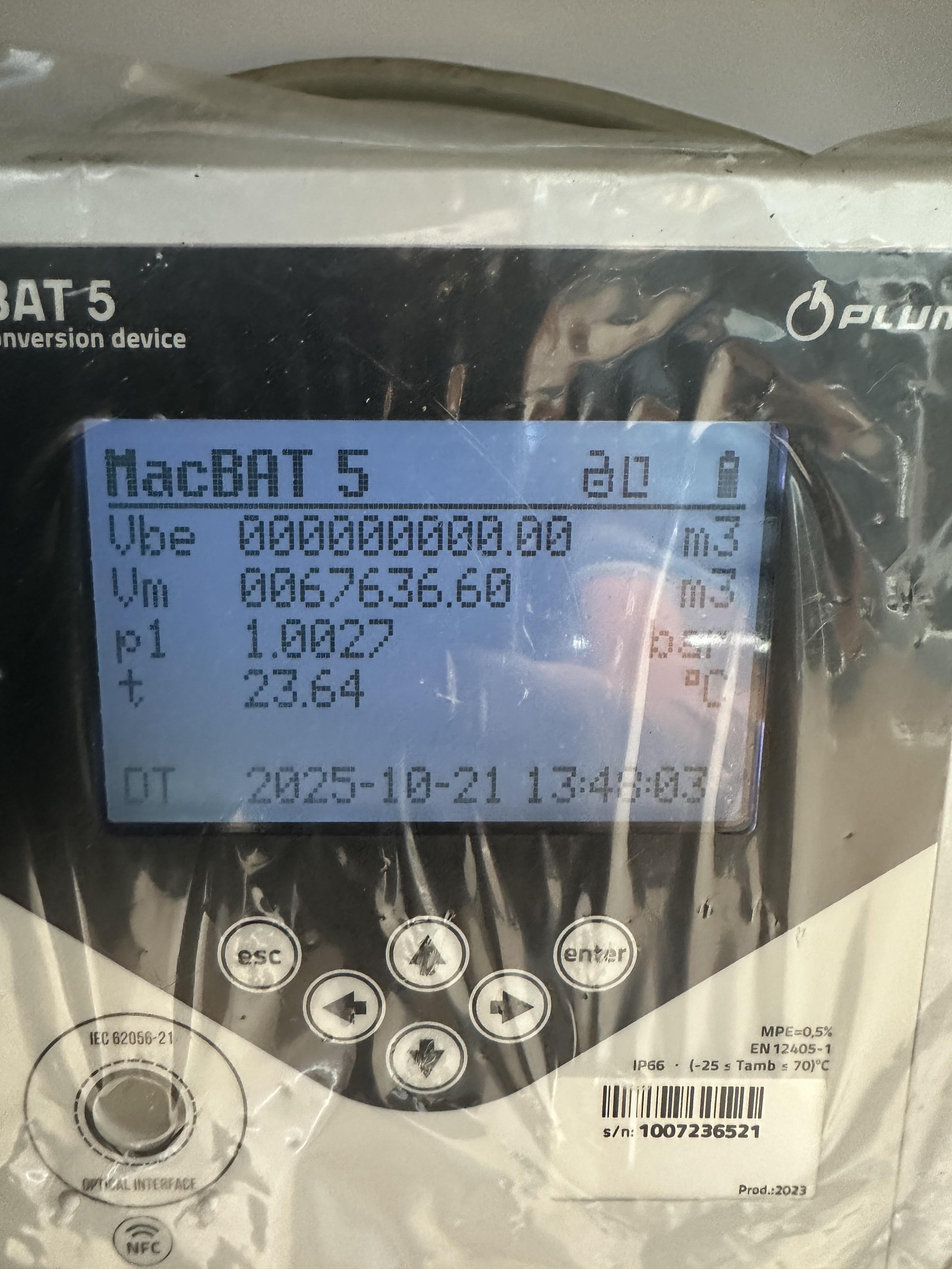digital_screen: (85, 420, 771, 822)
